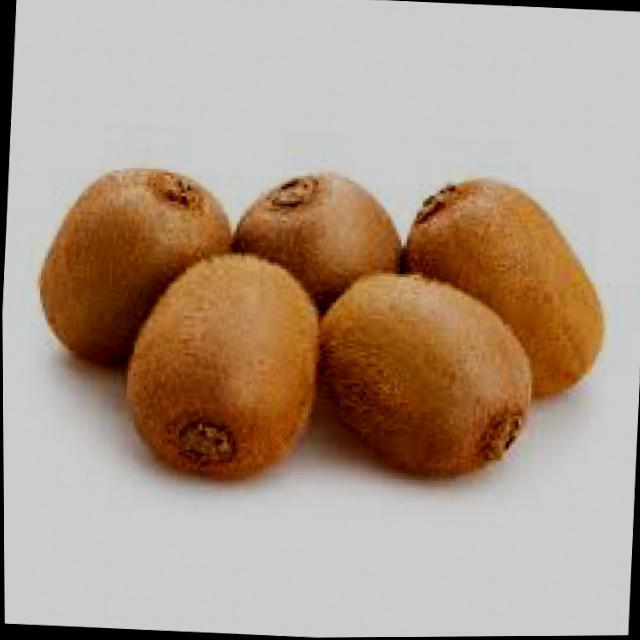kiwi: (394, 173, 614, 401), (310, 271, 535, 482), (120, 248, 320, 481), (34, 158, 239, 371), (226, 168, 409, 351)
